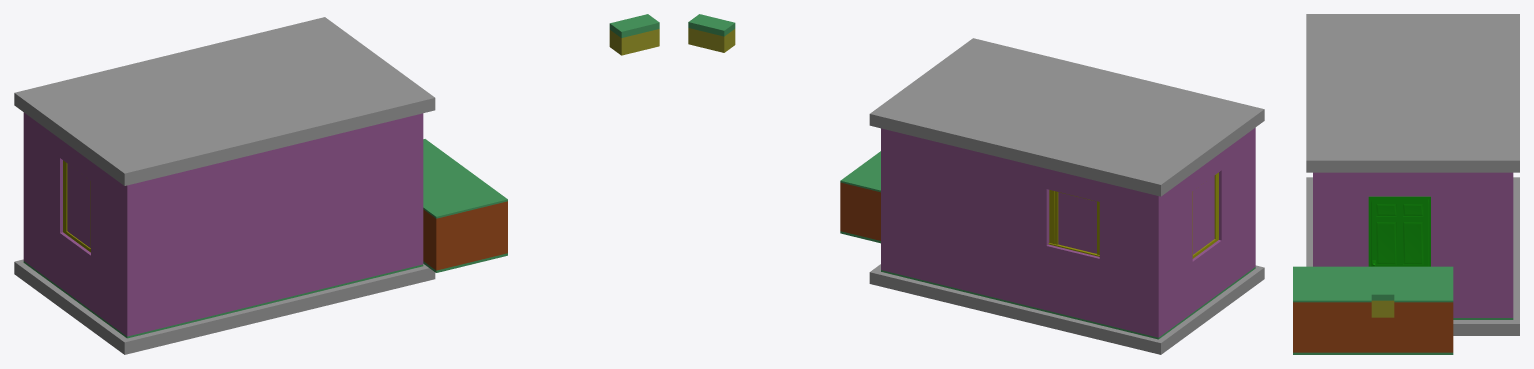
The model's file is FloorPlan11_physics.fbx.
3 views of the same model, side by side, from view 1: azimuth 30°, elevation 25°; view 2: azimuth 150°, elevation 25°; view 3: azimuth 270°, elevation 25° (orthographic). The views are drawn at different scales.
Visible parts, largest first — view 1: StandardWallSize, Ceiling, StandardIslandHeight1, Floor, StandardUpperCabinetWindow, StandardWindowPane1; view 2: StandardWallSize, Ceiling, Floor, StandardIslandHeight1, StandardWindowPane2, StandardUpperCabinetWindow, StandardWindowPane1, WindowTreatment1 (2); view 3: Ceiling, StandardWallSize, StandardIslandHeight1, StandardDoor1, Floor, StandardUpperCabinetWindow, StandardDoorFrame1.
Part boxes in pixels (x1,y1,x2,y2): StandardWallSize: [23, 112, 423, 338]; Ceiling: [14, 17, 435, 185]; StandardIslandHeight1: [423, 139, 507, 272]; Floor: [14, 259, 435, 354]; StandardUpperCabinetWindow: [609, 14, 659, 55]; StandardWindowPane1: [67, 163, 90, 247]; StandardWallSize: [881, 127, 1255, 339]; Ceiling: [869, 38, 1264, 196]; Floor: [869, 264, 1264, 354]; StandardIslandHeight1: [840, 151, 880, 243]; StandardWindowPane2: [1058, 192, 1096, 253]; StandardUpperCabinetWindow: [688, 14, 735, 52]; StandardWindowPane1: [1193, 175, 1214, 254]; WindowTreatment1 (2): [1048, 190, 1099, 256]; Ceiling: [1306, 14, 1519, 172]; StandardWallSize: [1313, 172, 1513, 319]; StandardIslandHeight1: [1293, 266, 1453, 354]; StandardDoor1: [1371, 199, 1428, 266]; Floor: [1306, 177, 1519, 335]; StandardUpperCabinetWindow: [1371, 276, 1394, 317]; StandardDoorFrame1: [1368, 196, 1430, 266].
Size of the model in its own units: 952 by 290 by 340.
